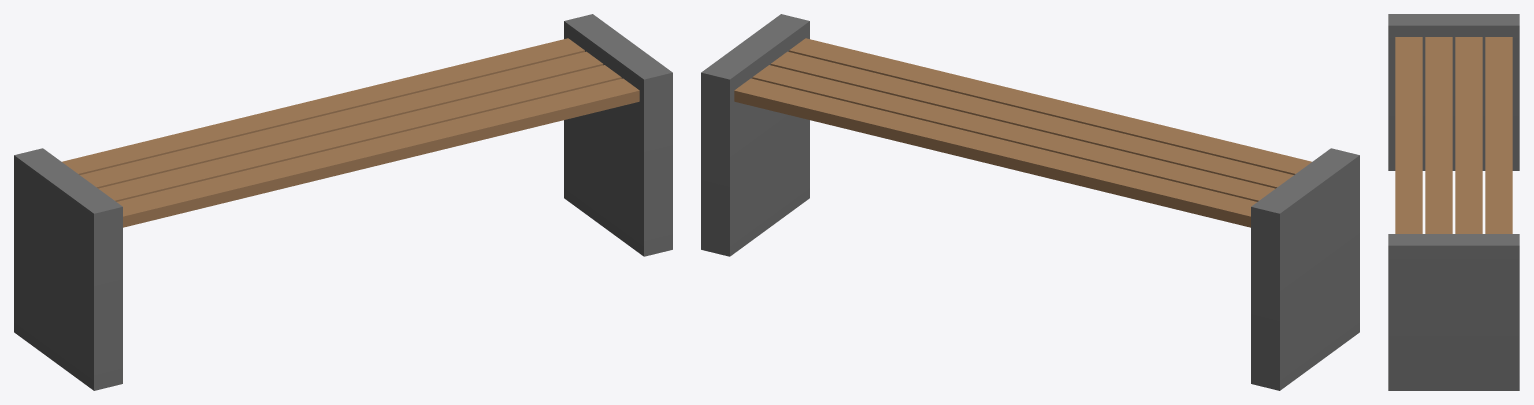
The model's file is Bench_03.fbx.
3 views of the same model, side by side, from view 1: azimuth 30°, elevation 25°; view 2: azimuth 150°, elevation 25°; view 3: azimuth 270°, elevation 25° (orthographic). The views are drawn at different scales.
Visible parts, largest first — view 1: Bench_03; view 2: Bench_03; view 3: Bench_03.
Part boxes in pixels (x1,y1,x2,y2): Bench_03: (14, 14, 672, 390); Bench_03: (701, 14, 1359, 390); Bench_03: (1388, 14, 1519, 390).
Bounding box in the file's own units: 171 × 50 × 40.95.
